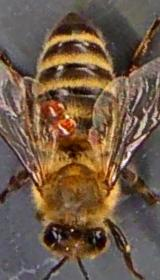varroa_mite: (32, 94, 72, 120), (45, 114, 80, 140)
